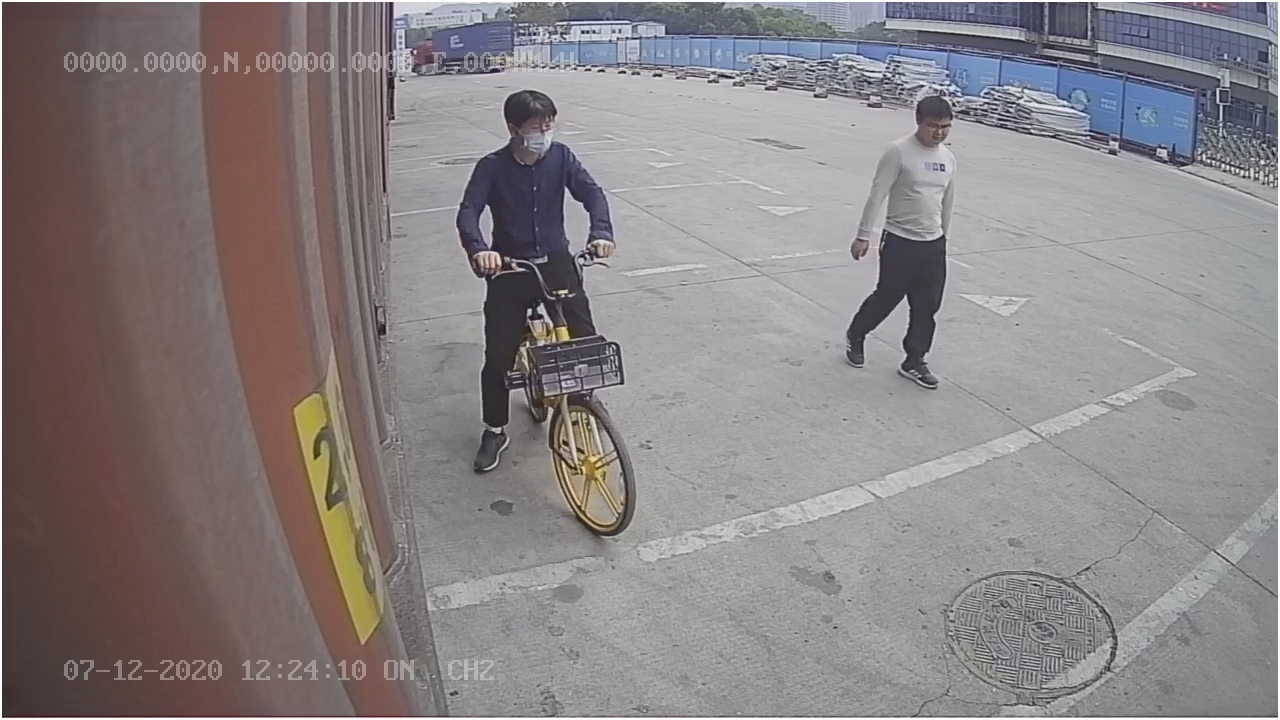person: (825, 93, 961, 393)
